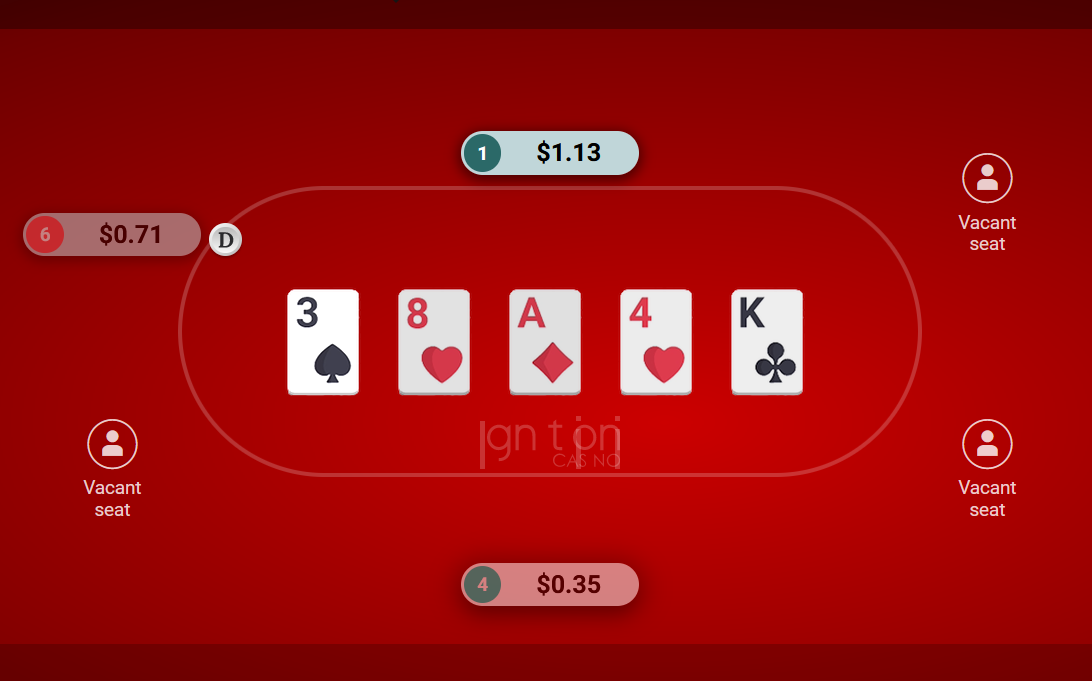3S: (283, 285, 364, 396)
4H: (616, 285, 697, 396)
8H: (394, 285, 475, 396)
AD: (505, 285, 586, 396)
KC: (727, 285, 808, 396)
